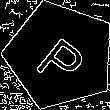P_NE: (29, 24, 92, 87)
